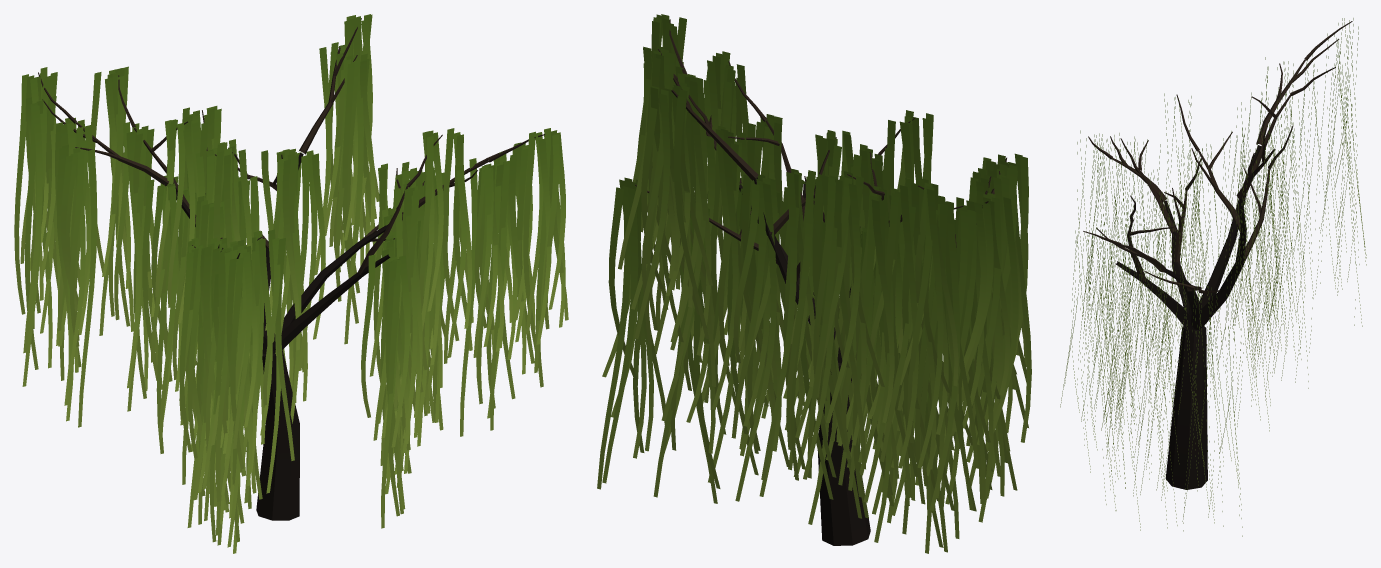
The model's file is hz-willow-near.glb.
The picture shows the model from 3 angles, left to right: view 1: azimuth 30°, elevation 25°; view 2: azimuth 150°, elevation 25°; view 3: azimuth 270°, elevation 25°; orthographic projection. The views are drawn at different scales.
Visible parts, largest first — view 1: foliage__plant, trunk__wood; view 2: foliage__plant, trunk__wood; view 3: foliage__plant, trunk__wood.
Part boxes in pixels (left/top/right/bottom): foliage__plant: left=14, top=14, right=568, bottom=553; trunk__wood: left=38, top=18, right=544, bottom=520; foliage__plant: left=597, top=14, right=1031, bottom=553; trunk__wood: left=635, top=19, right=1006, bottom=545; foliage__plant: left=1060, top=18, right=1366, bottom=536; trunk__wood: left=1083, top=21, right=1352, bottom=489.
Size of the model in its own units: 6.09 by 6.09 by 4.05.
